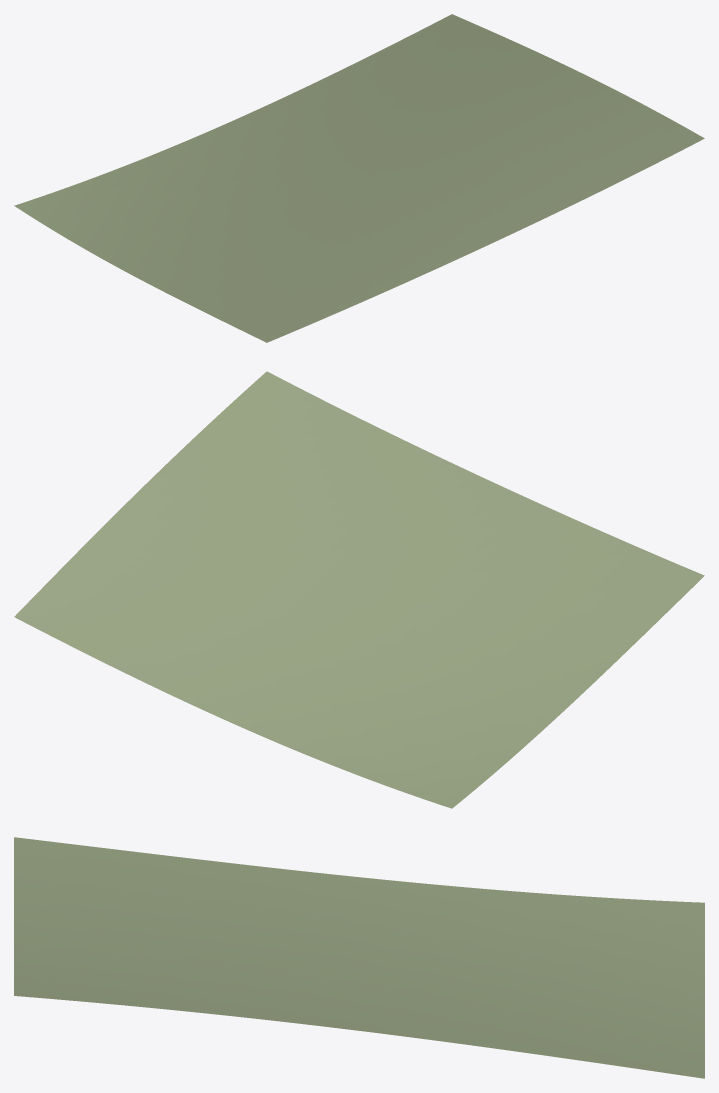
File: alpine-6-0.glb
3 views of the same model, one above another, from view 1: azimuth 30°, elevation 25°; view 2: azimuth 150°, elevation 25°; view 3: azimuth 270°, elevation 25° (orthographic). The views are drawn at different scales.
Parts seen in each view (by area): view 1: alpine-6-0; view 2: alpine-6-0; view 3: alpine-6-0.
Boxes of the visible parts, <box> form: alpine-6-0: <box>14,14,704,342</box>; alpine-6-0: <box>14,371,704,808</box>; alpine-6-0: <box>14,837,704,1078</box>.
Size of the model in its own units: 256 by 81.27 by 256.
